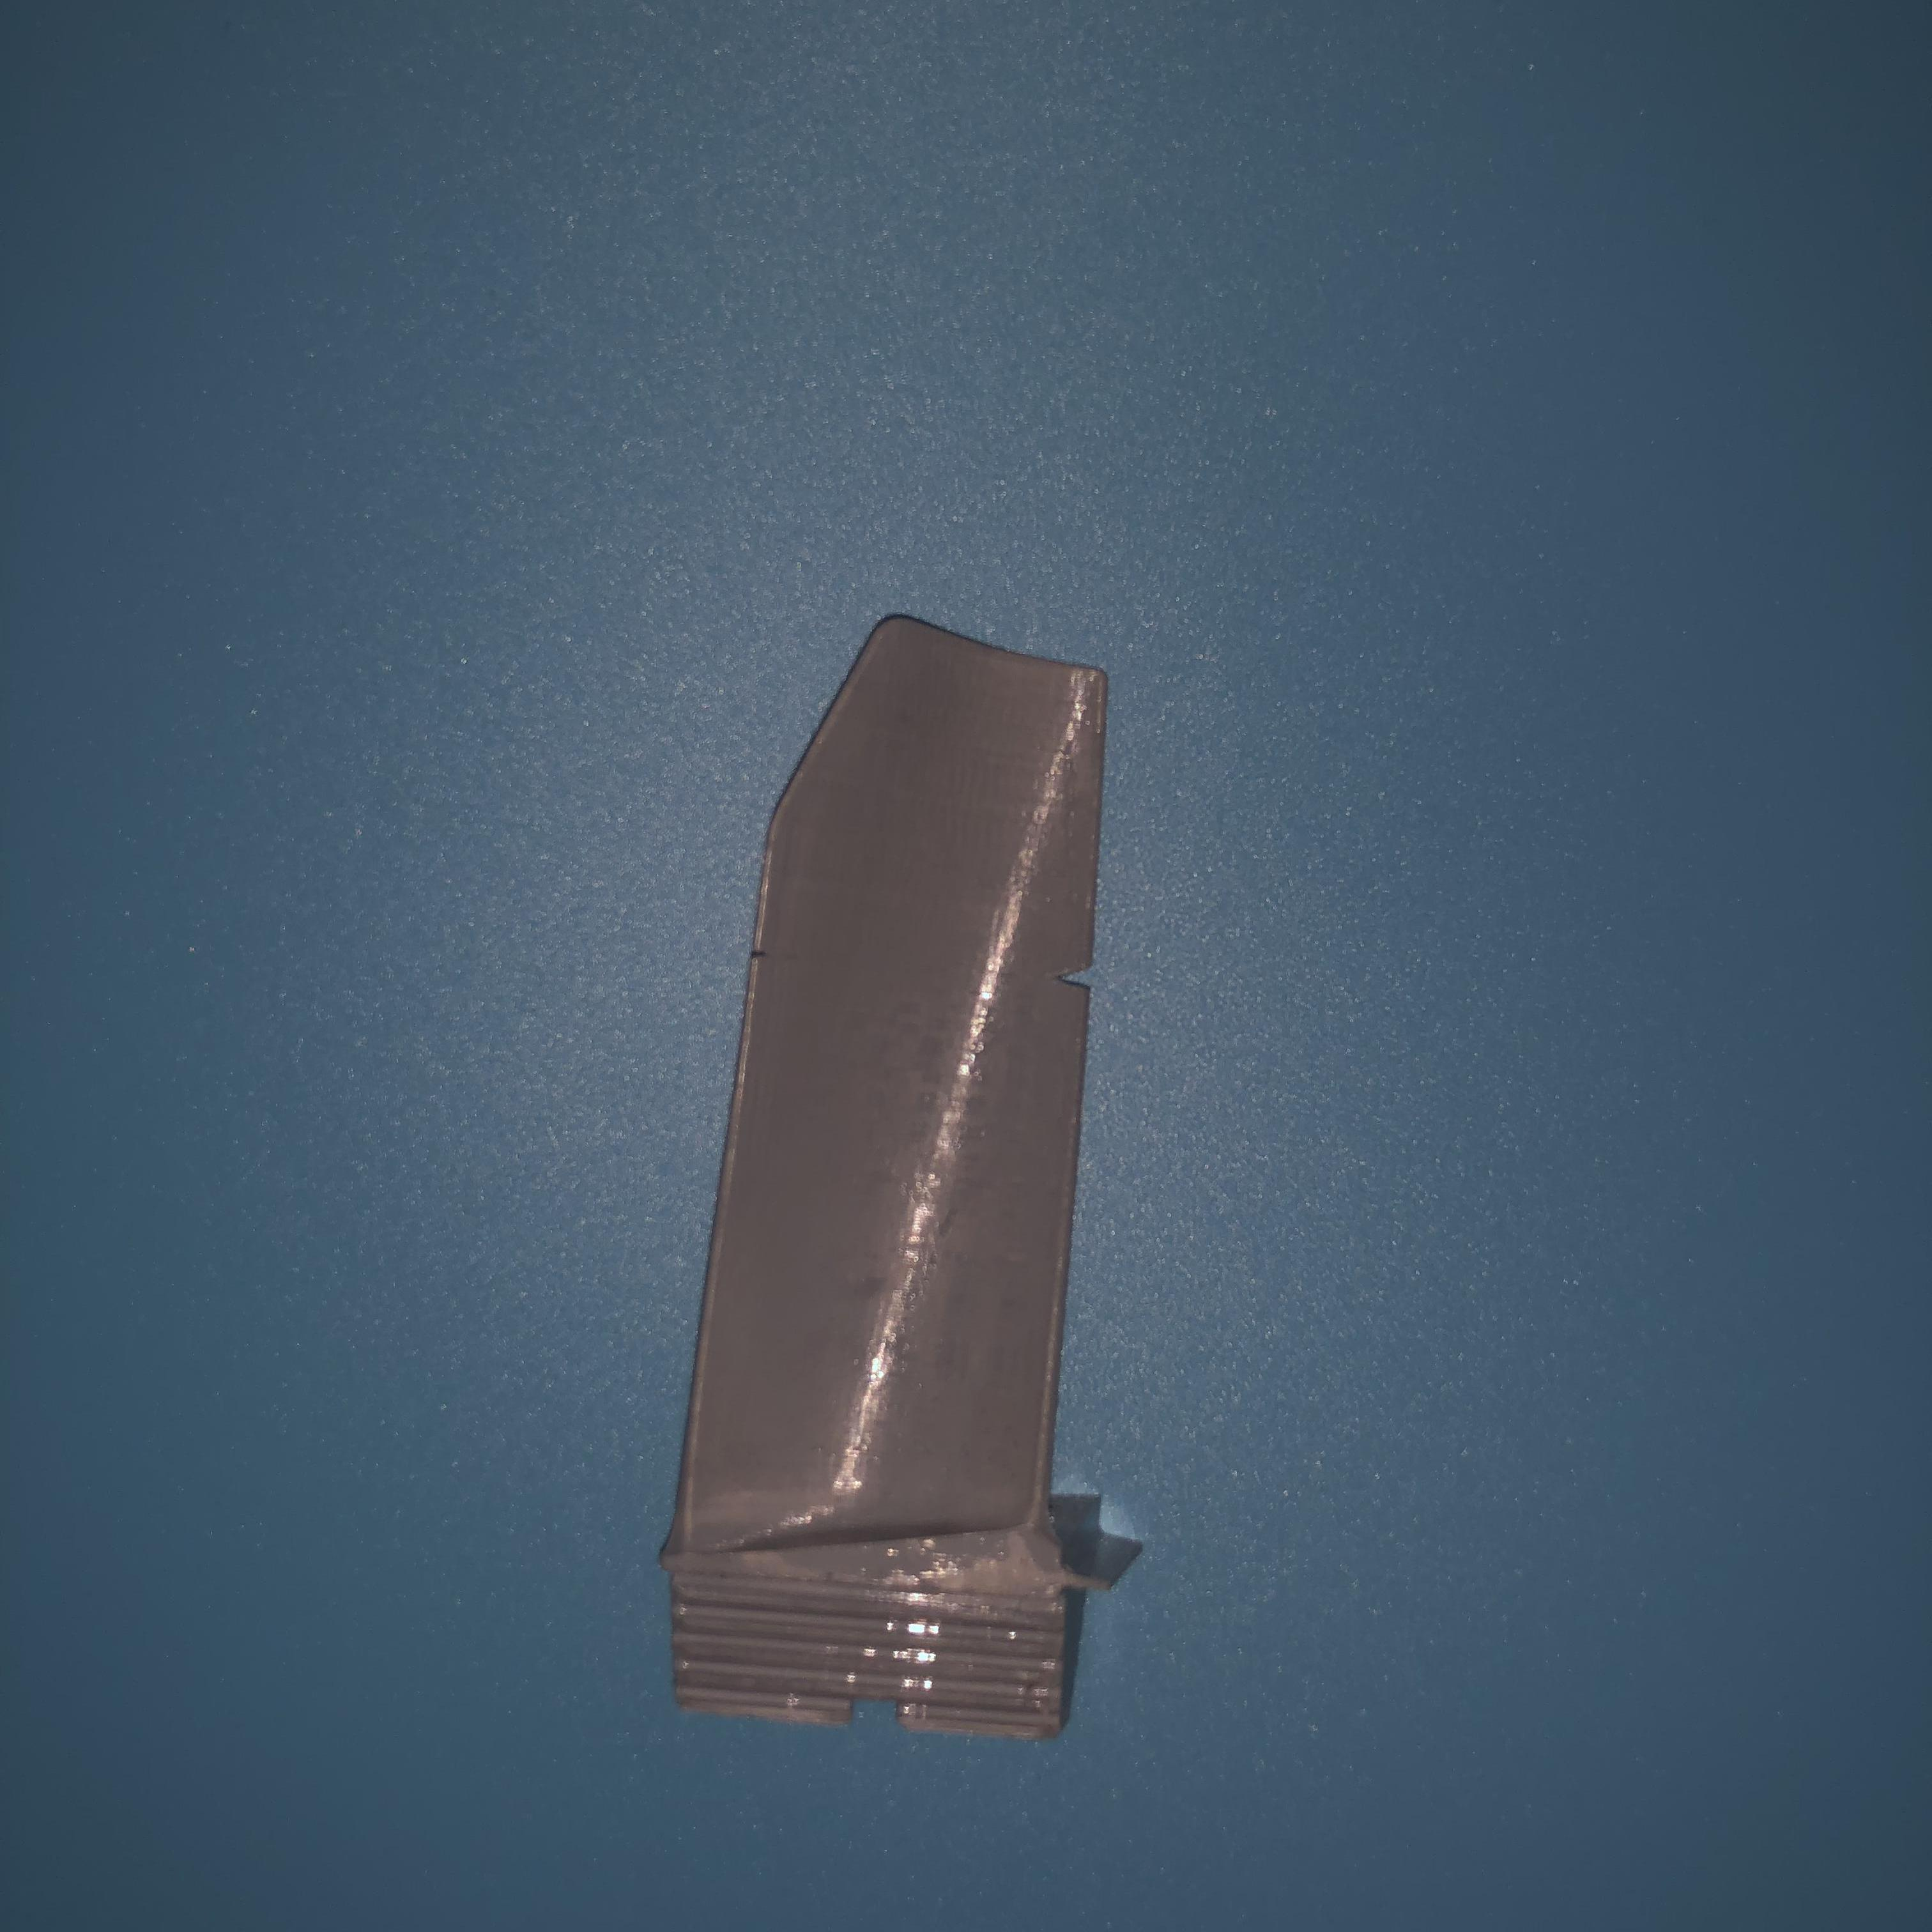groove: (1047, 955, 1099, 1000), (750, 943, 777, 959)
